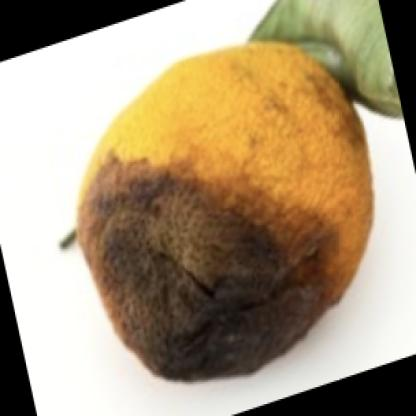rotten: (78, 43, 374, 383)
